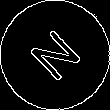N_SE: (23, 23, 87, 87)
